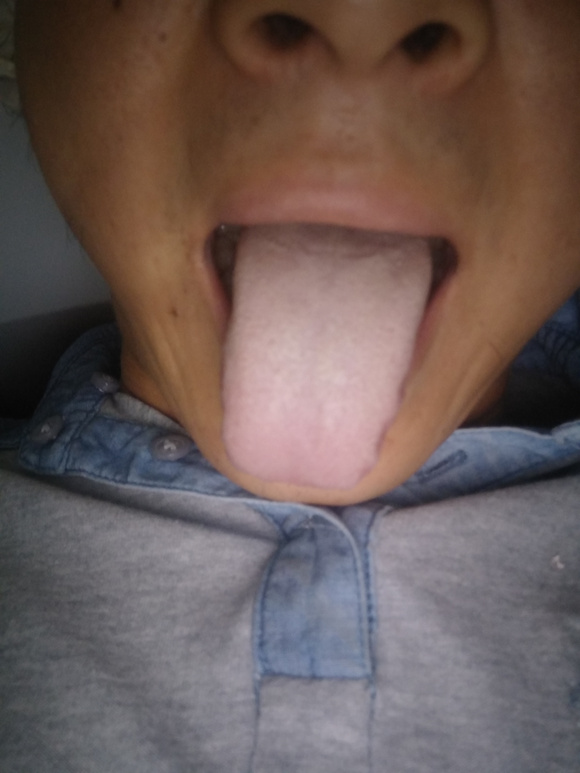baitaishe: (221, 221, 431, 488)
chihenshe: (362, 369, 411, 480)
